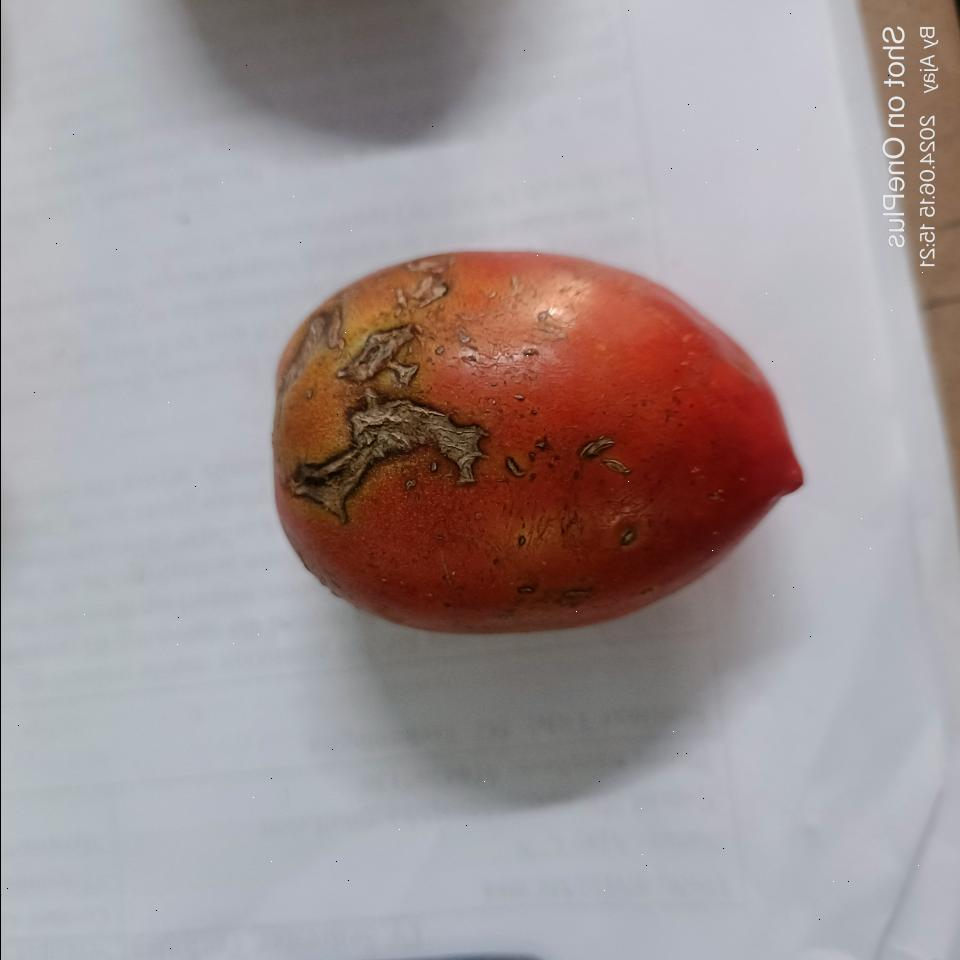Cracking: (279, 272, 500, 532)
